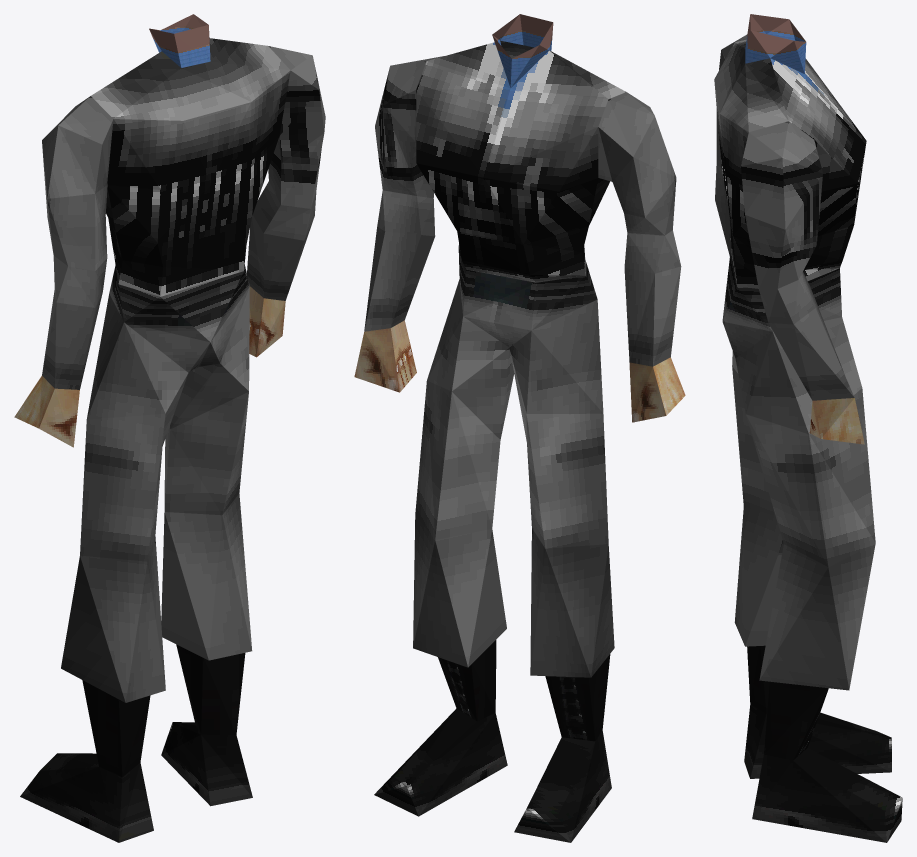
File: primary_010.glb
3 renders of one model, left to right at view 1: azimuth 30°, elevation 25°; view 2: azimuth 150°, elevation 25°; view 3: azimuth 270°, elevation 25°, orthographic. The views are drawn at different scales.
Visible parts, largest first — view 1: Object; view 2: Object; view 3: Object.
Boxes of the visible parts, <box> form: Object: <box>14,14,325,842</box>; Object: <box>354,14,685,842</box>; Object: <box>714,14,902,842</box>.
Bounding box in the file's own units: 0.7436 × 1.83 × 0.4017.
Materials: 69 (69 with a texture image).
